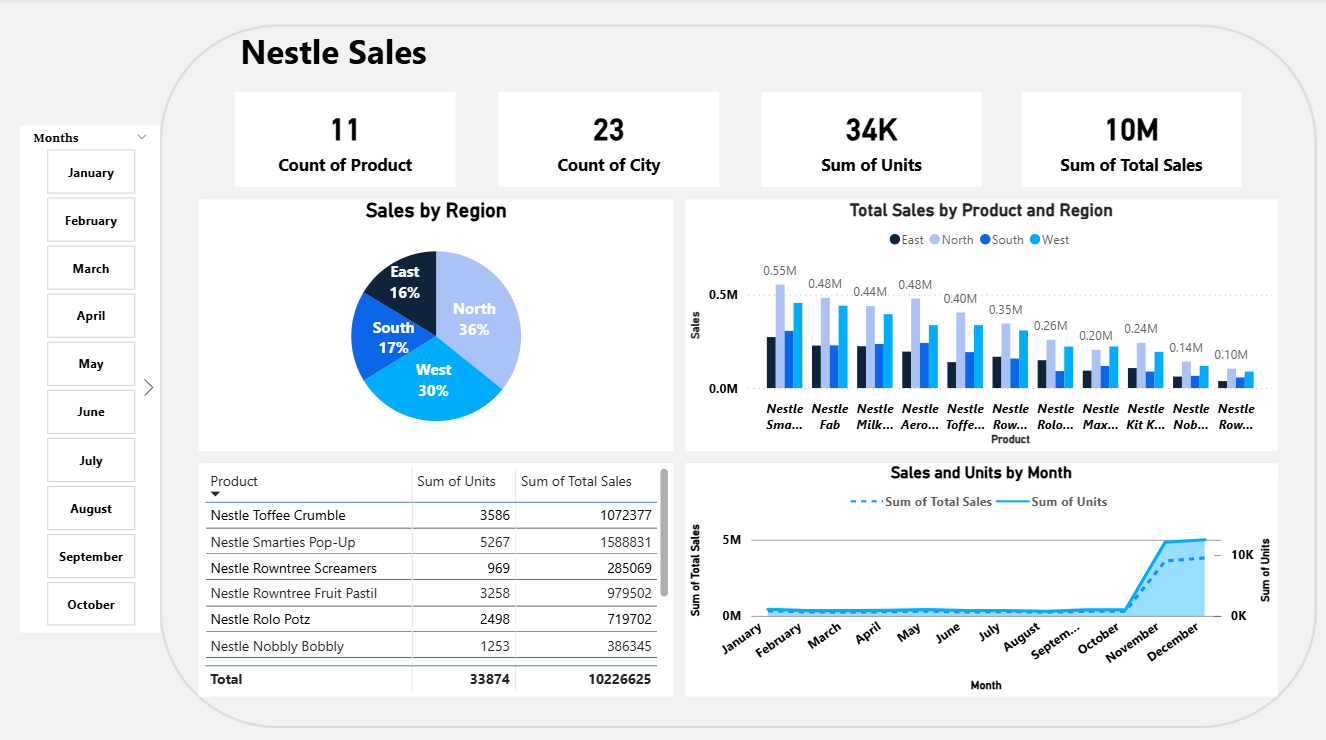

This screenshot's page, from the dashboard's own definition file:
{"tool":"powerbi","page":{"name":"Page 1","canvas":[1280,720],"ordinal":0},"visuals":[{"type":"clusteredColumnChart","title":"Total Sales by Product and Region","fields":{"Category":["Sales Data.Product"],"Y":["Sum(Sales Data.Total Sales)"],"Series":["Sales Data.Region"]},"box":[661.5,194.1,572.1,243.2],"z":0},{"type":"lineChart","title":" Sales and  Units by Month","fields":{"Y2":["Sum(Sales Data.Units)"],"Category":["Sales Data.Date.Variation.Date Hierarchy.Month"],"Y":["Sum(Sales Data.Total Sales)"]},"box":[661.5,448.6,572.1,225.6],"z":1000},{"type":"pieChart","title":" Sales by Region","fields":{"Y":["Sum(Sales Data.Total Sales)"],"Category":["Sales Data.Region"]},"box":[191.5,194.1,458.7,243.2],"z":2000},{"type":"card","fields":{"Values":["Sum(Sales Data.Total Sales)"]},"box":[985.4,90.7,213,92],"z":3000},{"type":"card","fields":{"Values":["Sum(Sales Data.Units)"]},"box":[734.6,90.7,213,92],"z":4000},{"type":"card","fields":{"Values":["Count(Sales Data.Product)"]},"box":[226.8,90.7,213,92],"z":5000},{"type":"card","fields":{"Values":["Count(Sales Data.City)"]},"box":[481.4,90.7,213,92],"z":6000},{"type":"tableEx","fields":{"Values":["Sales Data.Product","Sum(Sales Data.Units)","Sum(Sales Data.Total Sales)"]},"box":[191.5,448.6,458.7,225.6],"z":7000},{"type":"slicer","fields":{"Values":["Sales Data.Date.Variation.Date Hierarchy.Month"]},"box":[19.3,123.1,135.1,489.8],"z":8000},{"type":"textbox","box":[226.8,23.9,294.9,66.8],"z":9000}]}

Visuals, with their boxes in screenshot pixels (x1, y1, x2, y2), scaled from the page's 1280x720 canvas onto the 1326x740 screenshot:
"Total Sales by Product and Region" clusteredColumnChart: x1=685 y1=199 x2=1278 y2=449
" Sales and  Units by Month" lineChart: x1=685 y1=461 x2=1278 y2=693
" Sales by Region" pieChart: x1=198 y1=199 x2=674 y2=449
card - Sum(Sales Data.Total Sales): x1=1021 y1=93 x2=1241 y2=188
card - Sum(Sales Data.Units): x1=761 y1=93 x2=982 y2=188
card - Count(Sales Data.Product): x1=235 y1=93 x2=456 y2=188
card - Count(Sales Data.City): x1=499 y1=93 x2=719 y2=188
tableEx - Sales Data.Product x Sum(Sales Data.Units): x1=198 y1=461 x2=674 y2=693
slicer - Sales Data.Date.Variation.Date Hierarchy.Month: x1=20 y1=127 x2=160 y2=630
textbox: x1=235 y1=25 x2=540 y2=93
